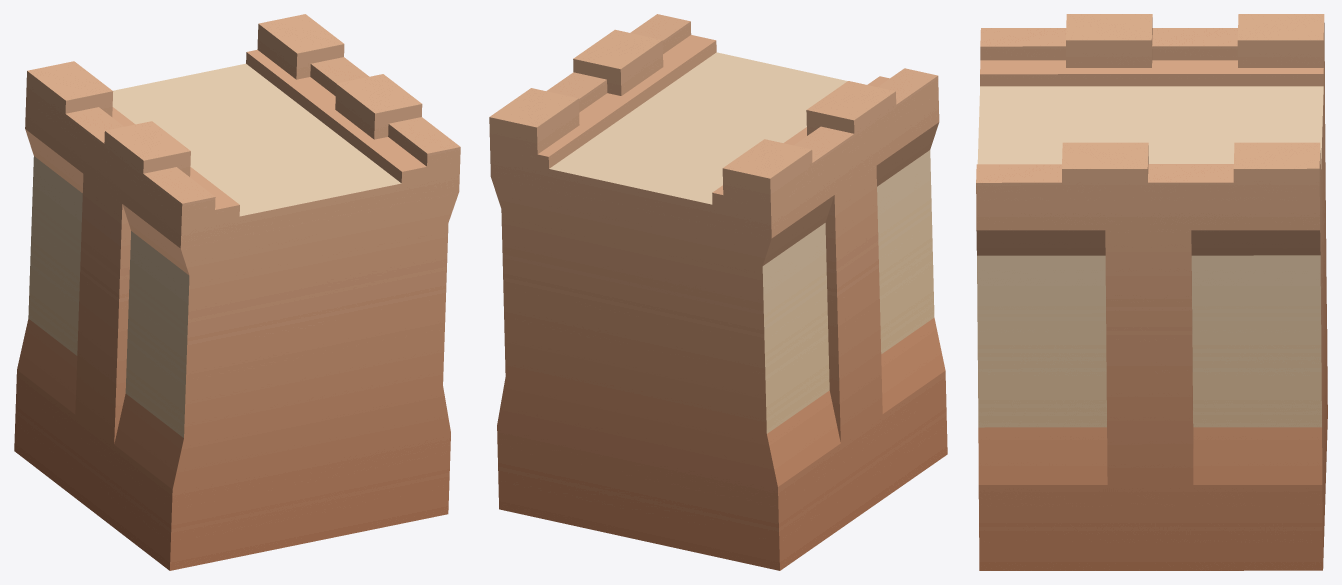
Rendered from wall-pillar.007_lev3.glb.
The picture shows the model from 3 angles, left to right: view 1: azimuth 30°, elevation 25°; view 2: azimuth 150°, elevation 25°; view 3: azimuth 270°, elevation 25°; orthographic projection. The views are drawn at different scales.
Visible parts, largest first — view 1: wall-pillar.007_lev3; view 2: wall-pillar.007_lev3; view 3: wall-pillar.007_lev3.
Part boxes in pixels (x1,y1,x2,y2): wall-pillar.007_lev3: (14,14,460,570); wall-pillar.007_lev3: (489,14,947,570); wall-pillar.007_lev3: (976,14,1327,570).
Size of the model in its own units: 6.26 by 8.01 by 6.08.
Materials: 1 (1 with a texture image).
